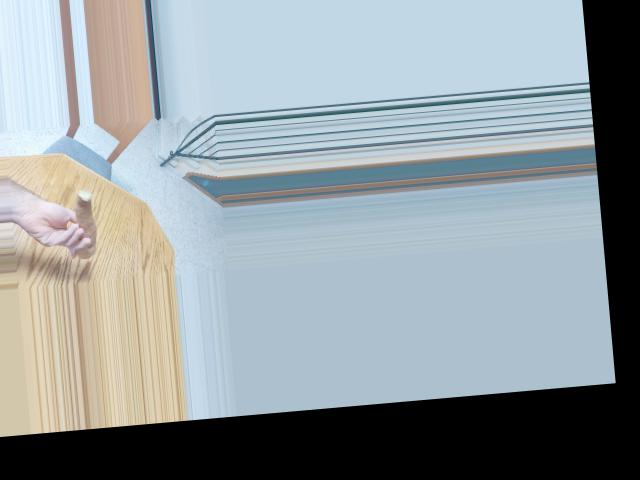sweet_potato: (65, 188, 99, 260)
